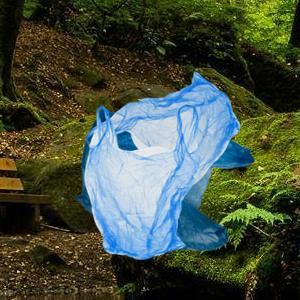plastic_bag: (85, 105, 203, 262)
